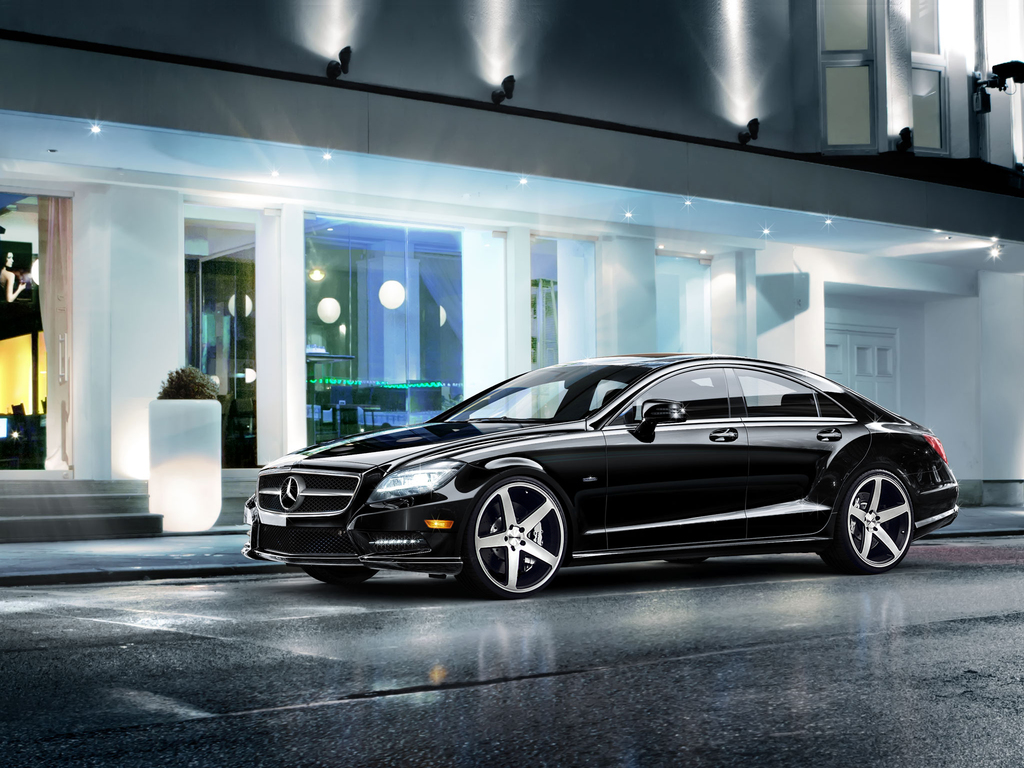Car: (244, 348, 958, 599)
